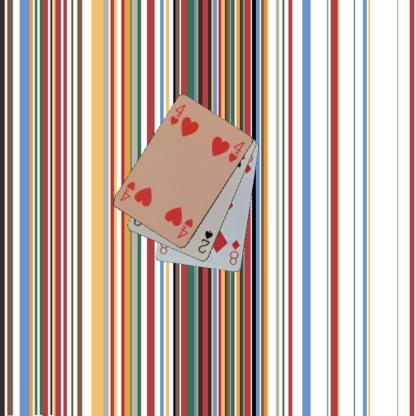2s: (196, 228, 214, 255)
4h: (174, 216, 194, 240), (168, 102, 187, 127)
8d: (227, 237, 242, 266)
